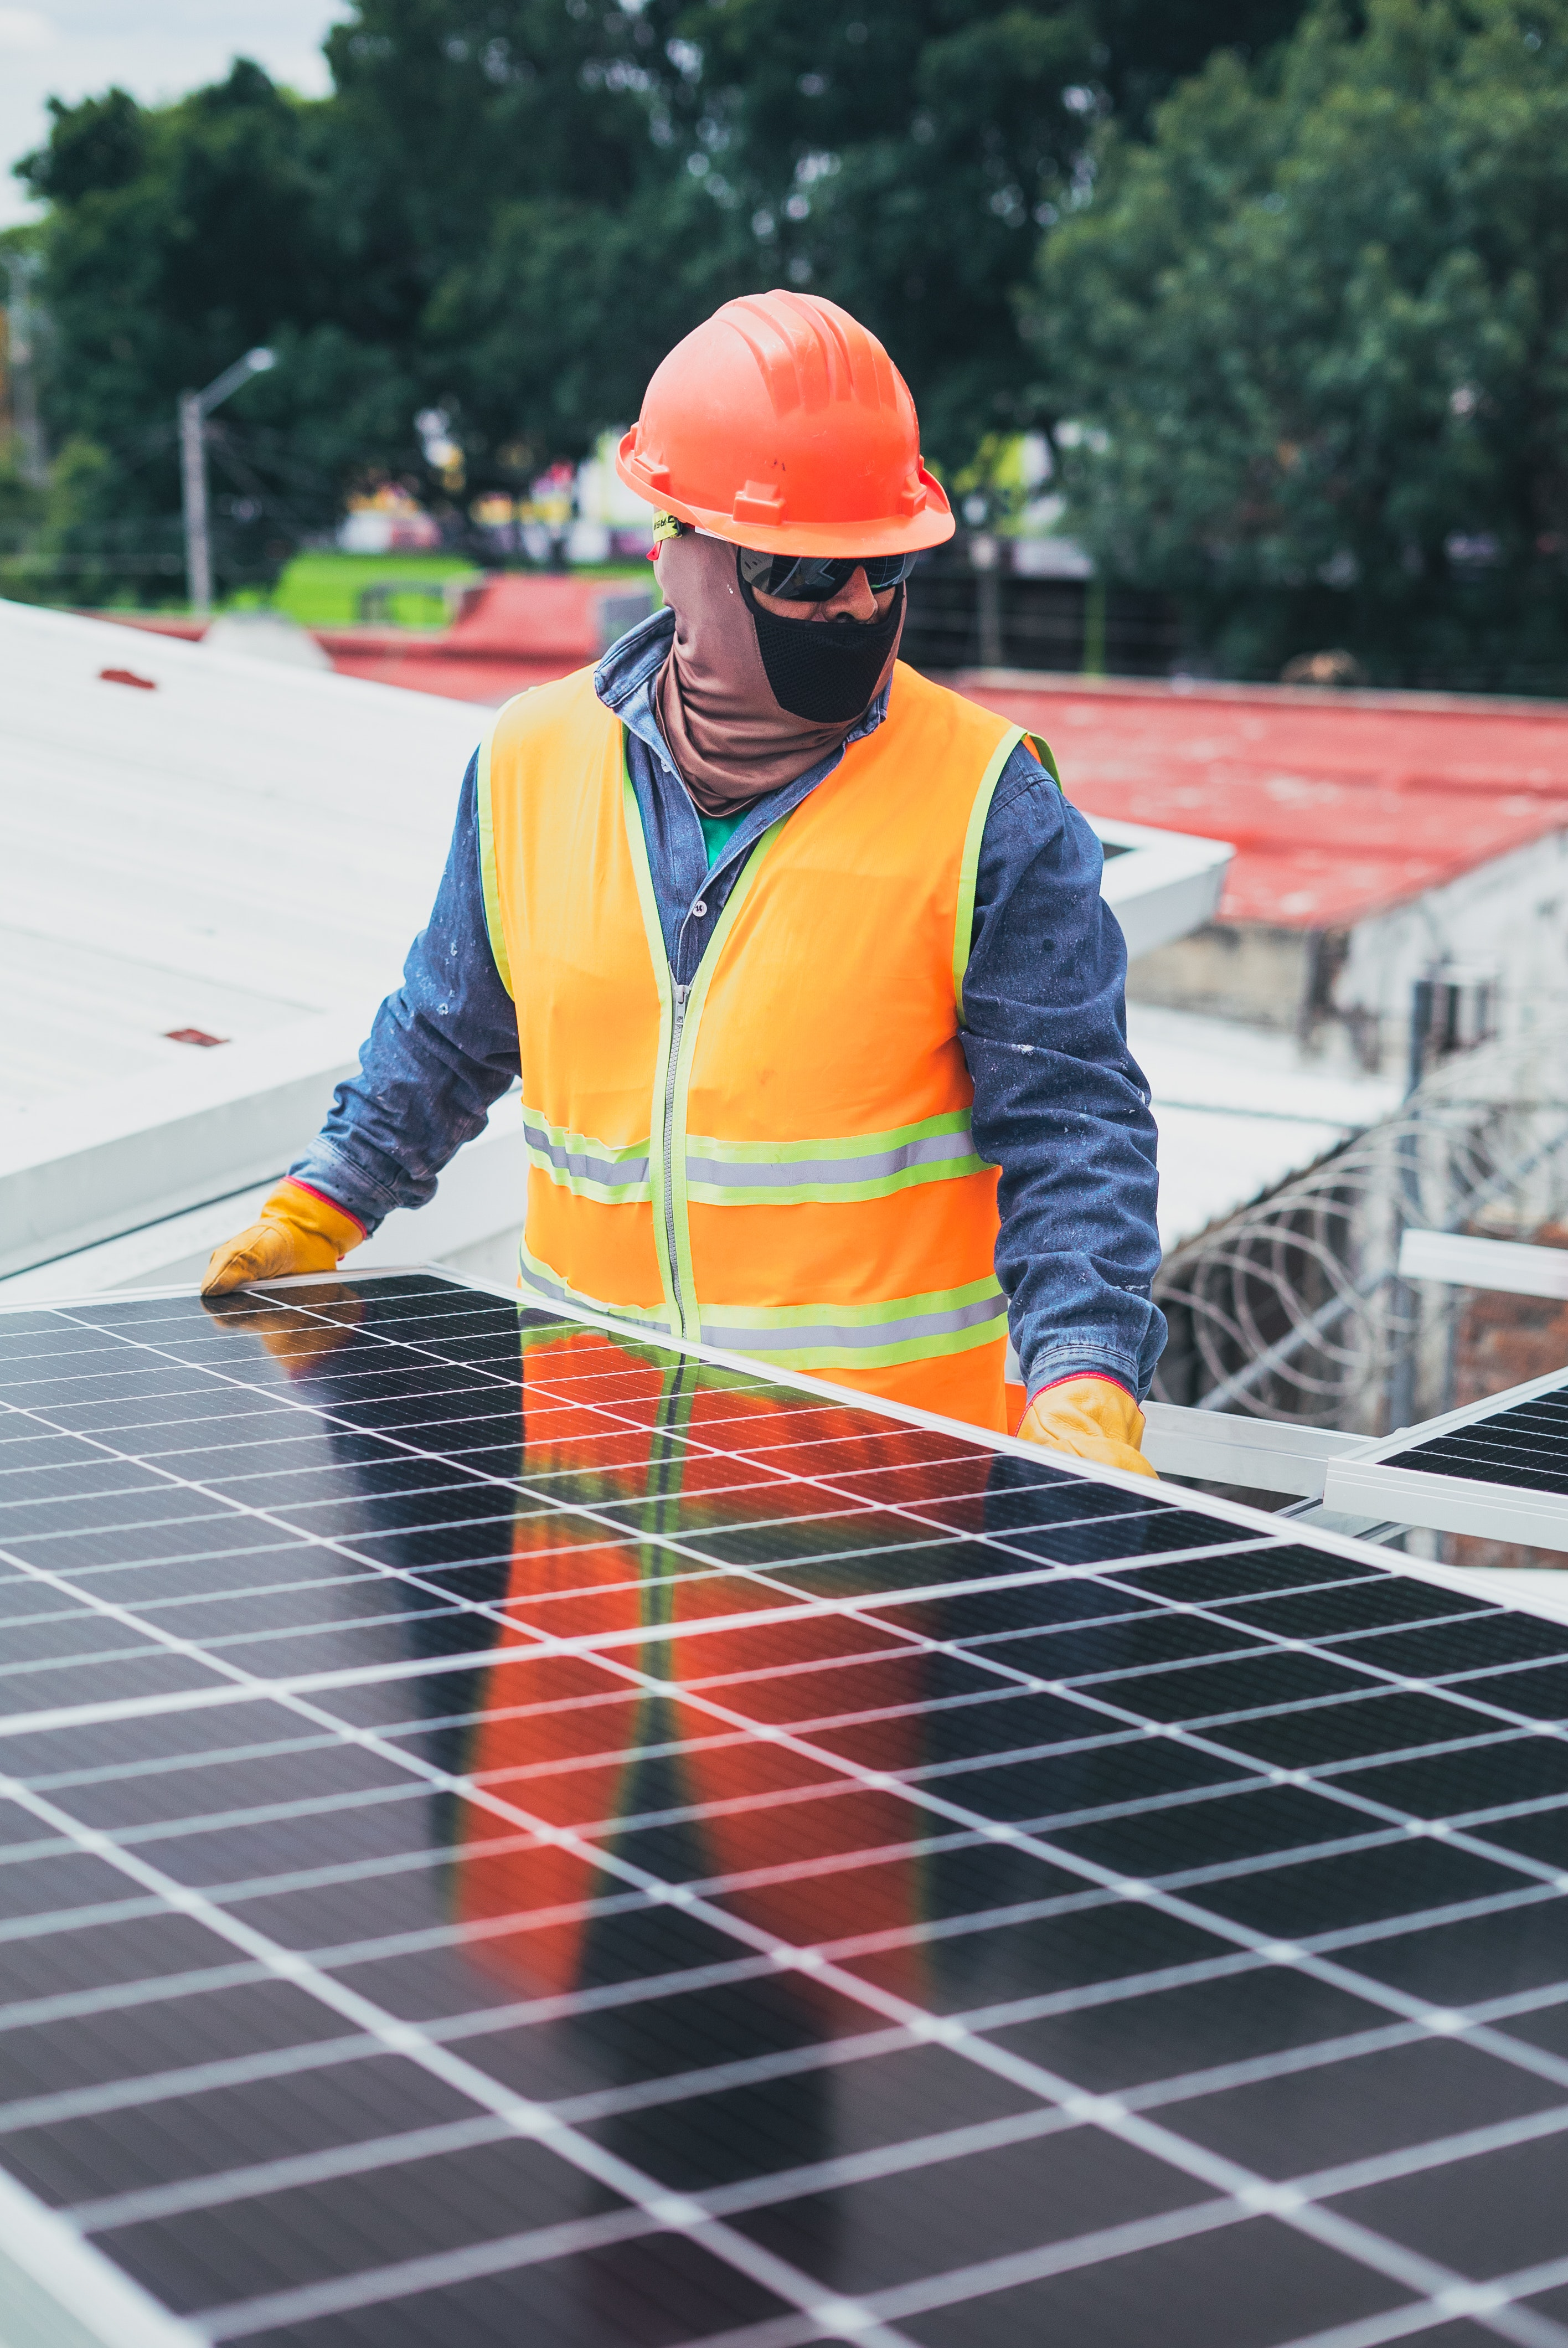Helmet: (604, 268, 978, 777)
Reflective vest: (465, 635, 1046, 1433)
